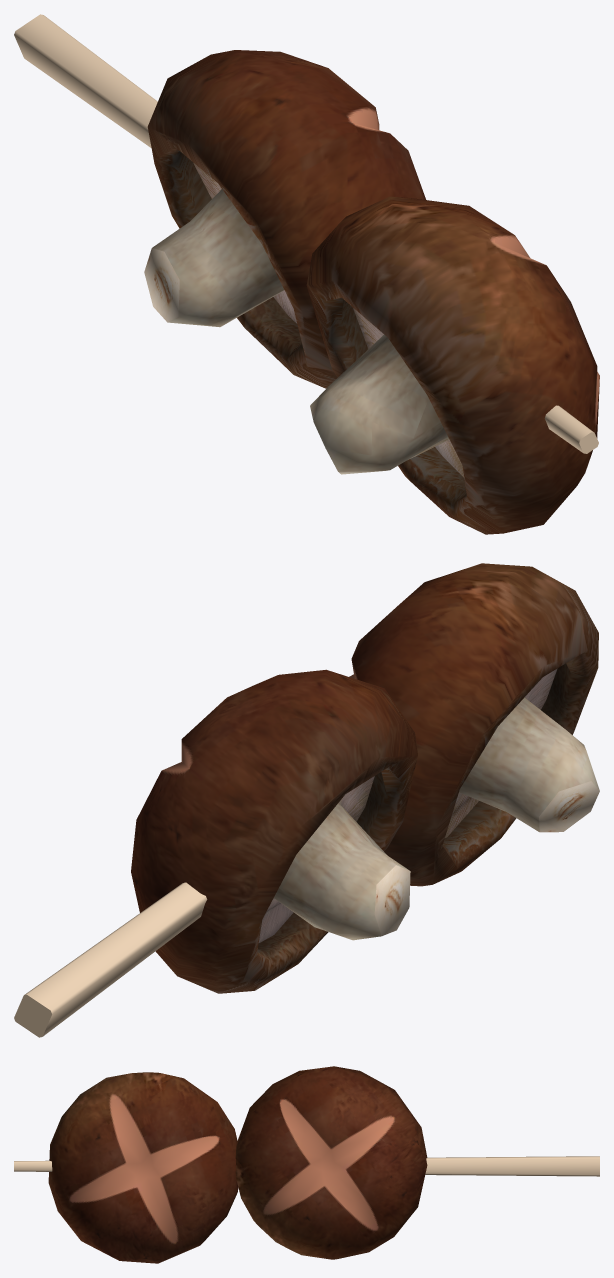
Rendered from ref_bbqmushroom.glb.
3 renders of one model, top to bottom at view 1: azimuth 30°, elevation 25°; view 2: azimuth 150°, elevation 25°; view 3: azimuth 270°, elevation 25°, orthographic. The views are drawn at different scales.
Visible parts, largest first — view 1: ref_bbqmushroom_part1, ref_bbqmushroom_part0; view 2: ref_bbqmushroom_part1, ref_bbqmushroom_part0; view 3: ref_bbqmushroom_part1, ref_bbqmushroom_part0.
Boxes of the visible parts, <box> form: ref_bbqmushroom_part1: <box>144,50,599,534</box>; ref_bbqmushroom_part0: <box>14,14,598,453</box>; ref_bbqmushroom_part1: <box>131,563,599,993</box>; ref_bbqmushroom_part0: <box>14,882,207,1037</box>; ref_bbqmushroom_part1: <box>48,1066,427,1263</box>; ref_bbqmushroom_part0: <box>14,1156,599,1176</box>.
Size of the model in its own units: 0.2807 by 0.3305 by 1.
Materials: 2 (1 with a texture image).
